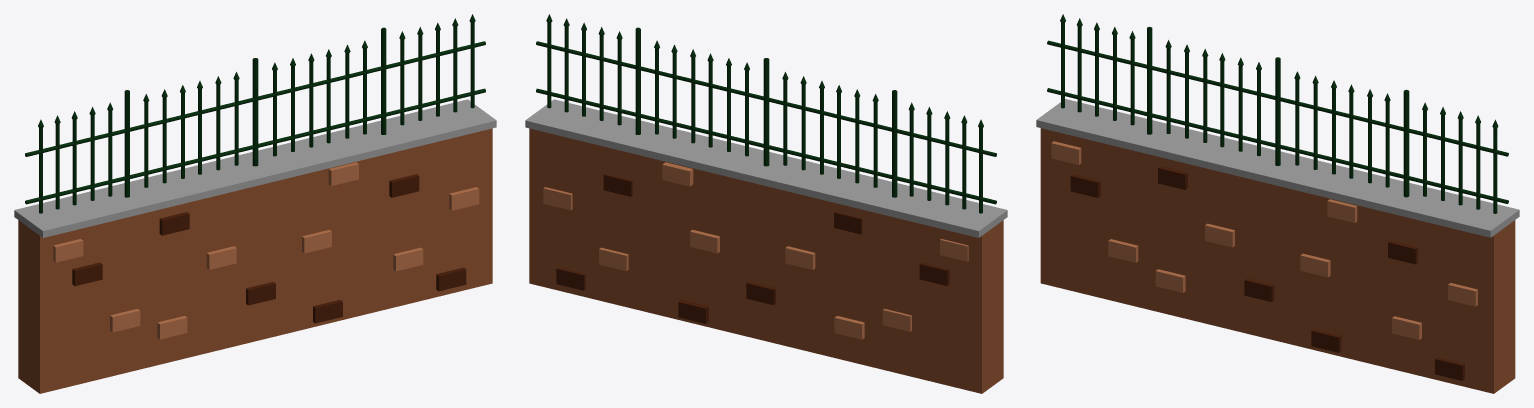
File: Wall_1.fbx
The picture shows the model from 3 angles, left to right: view 1: azimuth 30°, elevation 25°; view 2: azimuth 150°, elevation 25°; view 3: azimuth 330°, elevation 25°; orthographic projection.
Visible parts, largest first — view 1: Body, Cube, fens, fens.001, fens.002, fens.014, fens.023, Cube.009, Cube.002, Cube.003, Cube.011, Cube.001 (+24 smaller); view 2: Body, Cube, fens, fens.001, fens.002, fens.014, fens.023, Cube.020, Cube.018, Cube.024, Cube.023, Cube.027 (+24 smaller); view 3: Body, Cube, fens.001, fens, fens.023, fens.002, fens.014, Cube.001, Cube.004, Cube.008, Cube.010, Cube.012 (+22 smaller).
Boxes of the visible parts, x1,y1,x2,y2 form: Body: (18, 128, 492, 393); Cube: (14, 99, 496, 237); fens: (25, 88, 485, 204); fens.001: (25, 41, 485, 156); fens.002: (252, 58, 258, 166); fens.014: (124, 90, 129, 197); fens.023: (381, 27, 386, 134); Cube.009: (393, 247, 423, 271); Cube.002: (72, 262, 102, 286); Cube.003: (157, 316, 187, 339); Cube.011: (389, 174, 419, 197); Cube.001: (53, 239, 83, 262); Body: (529, 128, 1003, 393); Cube: (525, 99, 1007, 237); fens: (536, 88, 996, 204); fens.001: (536, 41, 996, 156); fens.002: (763, 58, 769, 166); fens.014: (892, 90, 897, 197); fens.023: (635, 27, 640, 134); Cube.020: (662, 162, 693, 186); Cube.018: (678, 299, 708, 323); Cube.024: (834, 316, 864, 339); Cube.023: (785, 246, 815, 269); Cube.027: (919, 262, 949, 285); Body: (1040, 128, 1515, 393); Cube: (1036, 99, 1519, 237); fens.001: (1047, 40, 1508, 156); fens: (1047, 88, 1508, 203); fens.023: (1403, 89, 1409, 197); fens.002: (1275, 57, 1280, 165); fens.014: (1147, 26, 1152, 134); Cube.001: (1051, 141, 1081, 164); Cube.004: (1108, 239, 1138, 262); Cube.008: (1311, 329, 1341, 352); Cube.010: (1327, 199, 1357, 222); Cube.012: (1244, 278, 1274, 301).
Bounding box in the file's own units: 1413 × 800 × 154.
